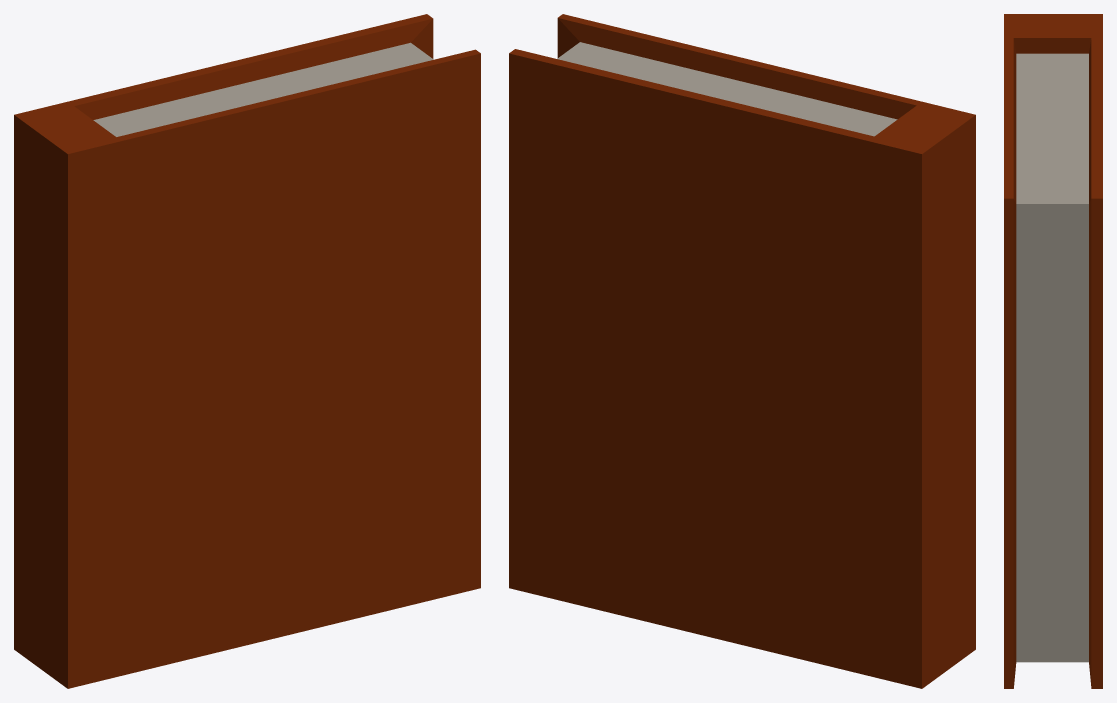
File: vertical book 2.fbx
The picture shows the model from 3 angles, left to right: view 1: azimuth 30°, elevation 25°; view 2: azimuth 150°, elevation 25°; view 3: azimuth 270°, elevation 25°; orthographic projection. The views are drawn at different scales.
Parts seen in each view (by area): view 1: vertical_book; view 2: vertical_book; view 3: vertical_book.
Part boxes in pixels (x1=…): vertical_book: x1=14, y1=14, x2=480, y2=688; vertical_book: x1=509, y1=14, x2=975, y2=688; vertical_book: x1=1004, y1=14, x2=1102, y2=688.
Size of the model in its own units: 1.65 by 2.05 by 0.3735.
